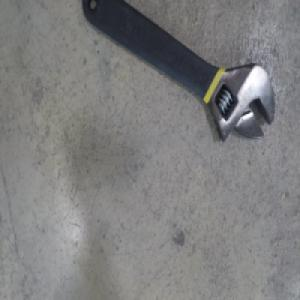AdjustableWrench: (81, 0, 275, 142)
